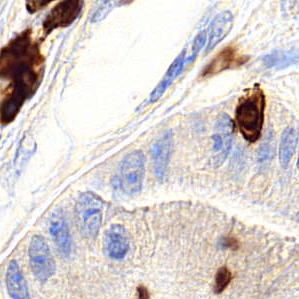Lymphocyte: (232, 83, 267, 143)
